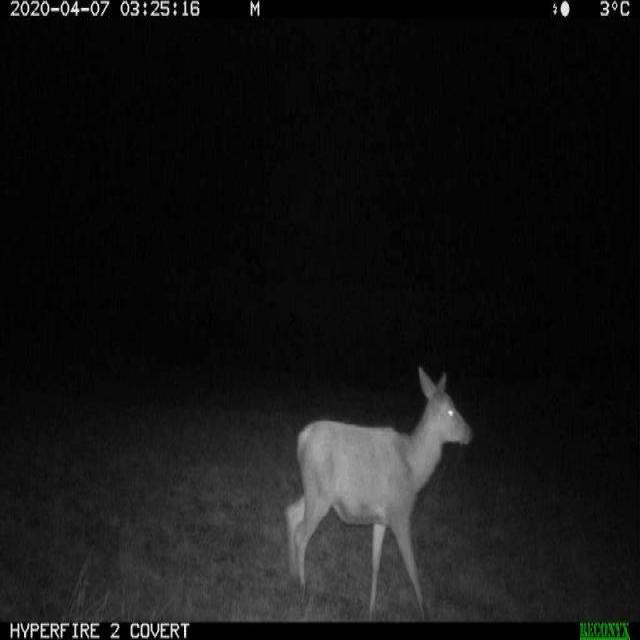deer: (264, 380, 468, 621)
